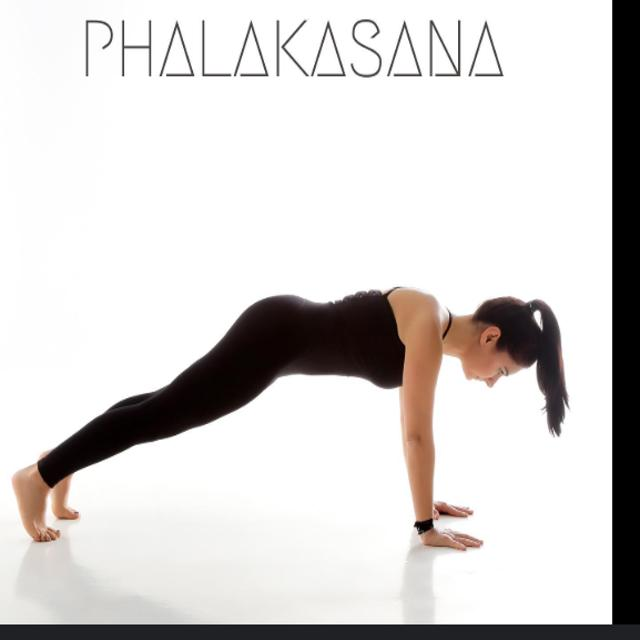Plank_Pose: (14, 285, 556, 553)
